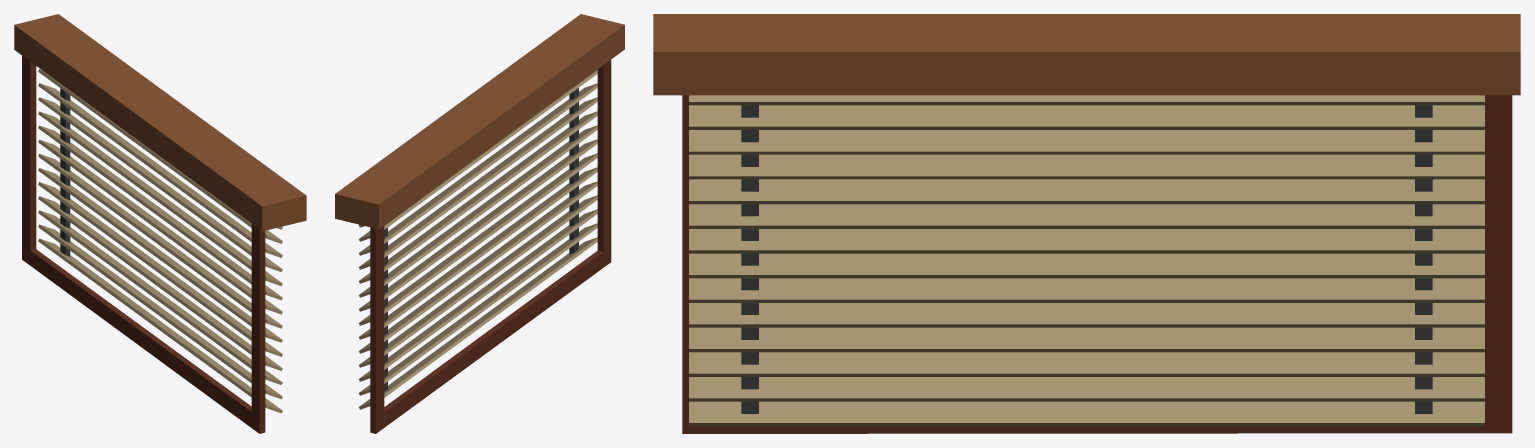
File: Blinds.fbx
The picture shows the model from 3 angles, left to right: view 1: azimuth 30°, elevation 25°; view 2: azimuth 150°, elevation 25°; view 3: azimuth 270°, elevation 25°; orthographic projection. The views are drawn at different scales.
Visible parts, largest first — view 1: Blinds; view 2: Blinds; view 3: Blinds.
Boxes of the visible parts, left/top/right/bottom form: Blinds: left=14, top=14, right=306, bottom=433; Blinds: left=335, top=14, right=624, bottom=433; Blinds: left=653, top=14, right=1520, bottom=433.
Bounding box in the file's own units: 11.42 × 57.75 × 111.
